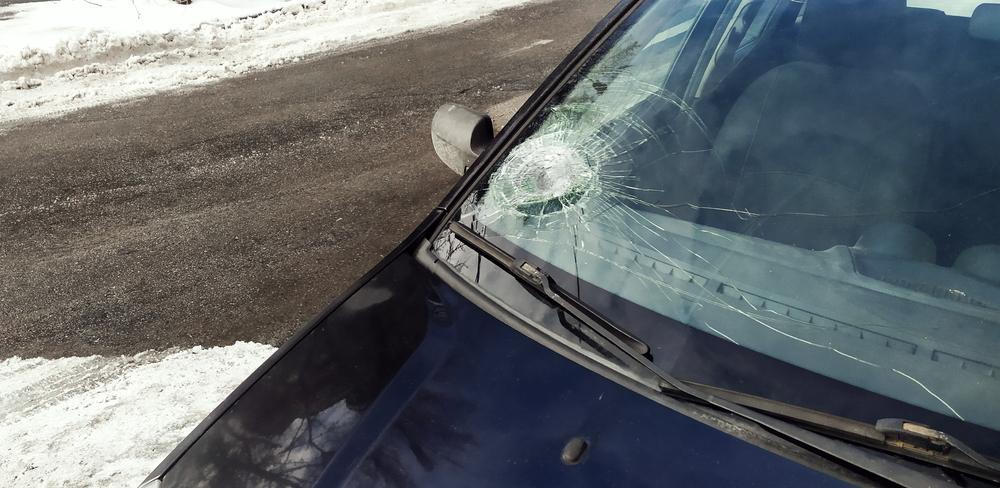glass shatter: (461, 0, 1000, 463)
